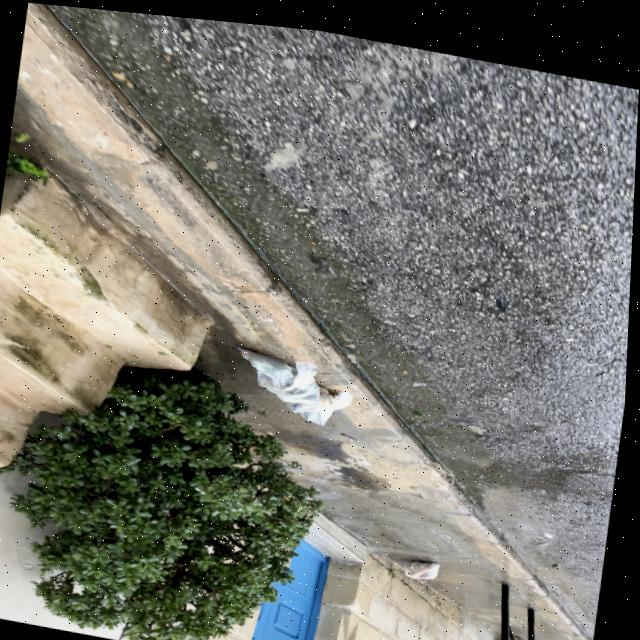Organic Waste -White Bag-: (234, 339, 330, 404), (271, 367, 359, 424), (404, 546, 449, 574)
